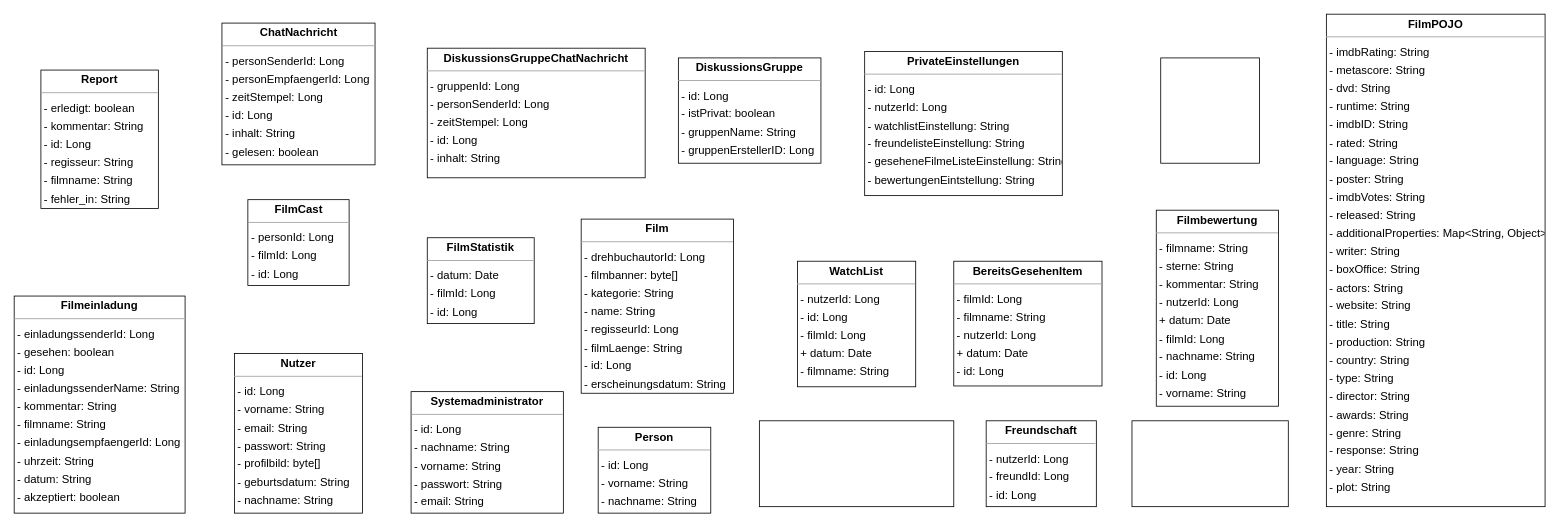
Image size: 1560x527. Some labels were removed from this diagram. The box of each missing label's shape, as (x1, y1, x2, y2) in pixels:
DiskussionsGruppenMitglied - nutzerId: Long - gruppenId: Long - id: Long: (759, 420, 954, 507)
Freundschaftsanfrage - id: Long - anfrageSenderId: Long - nutzerId: Long: (1131, 420, 1288, 507)
Notiz - text: String - nutzerId: Long - id: Long + datum: Date: (1160, 57, 1260, 163)
